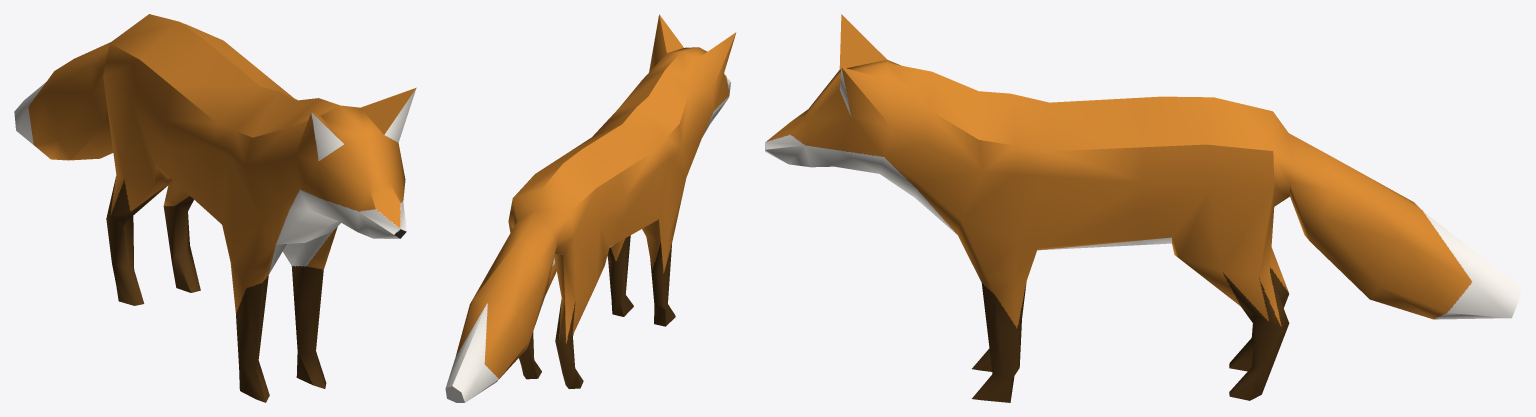
3 views of the same model, side by side, from view 1: azimuth 30°, elevation 25°; view 2: azimuth 150°, elevation 25°; view 3: azimuth 270°, elevation 25° (orthographic). The views are drawn at different scales.
Visible parts, largest first — view 1: GLTF_created_0; view 2: GLTF_created_0; view 3: GLTF_created_0.
Boxes of the visible parts, x1,y1,x2,y2 form: GLTF_created_0: [14, 14, 416, 402]; GLTF_created_0: [445, 14, 736, 402]; GLTF_created_0: [765, 14, 1521, 402].
Bounding box in the file's own units: 25.18 × 78.62 × 155.
1 material, 1 textured.
